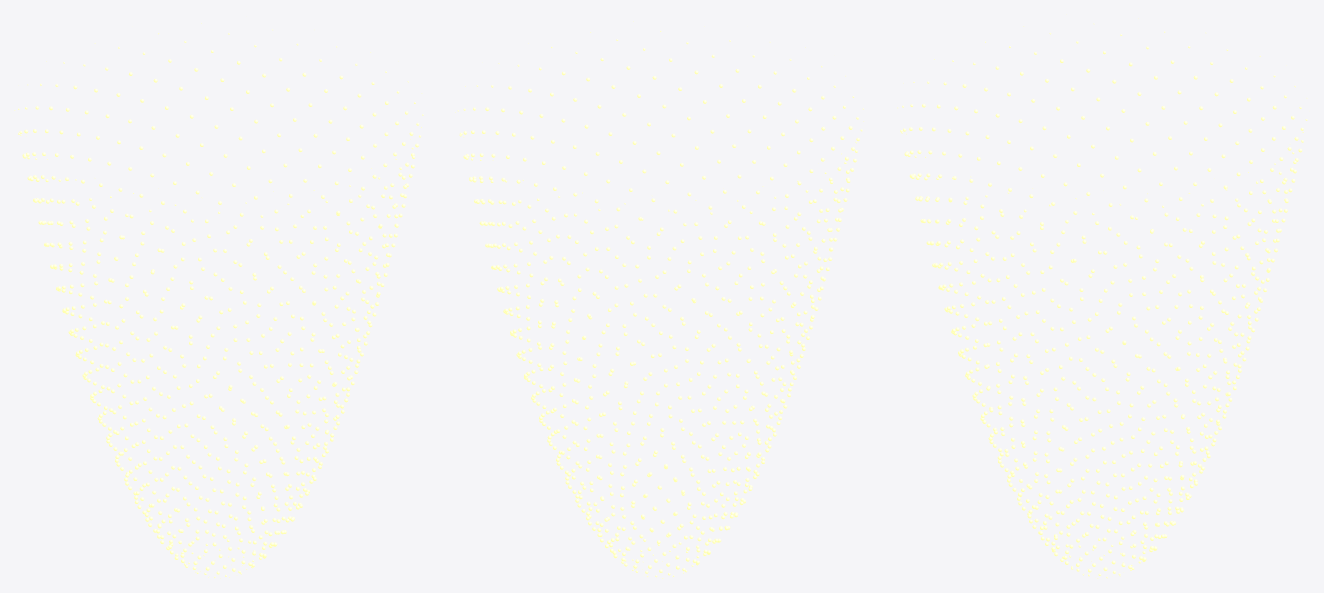
Rendered from fibonacci_orb.glb.
The picture shows the model from 3 angles, left to right: view 1: azimuth 30°, elevation 25°; view 2: azimuth 150°, elevation 25°; view 3: azimuth 270°, elevation 25°; orthographic projection.
Size of what is drawn, in the model's own units: 31.33 by 39.92 by 31.34.
